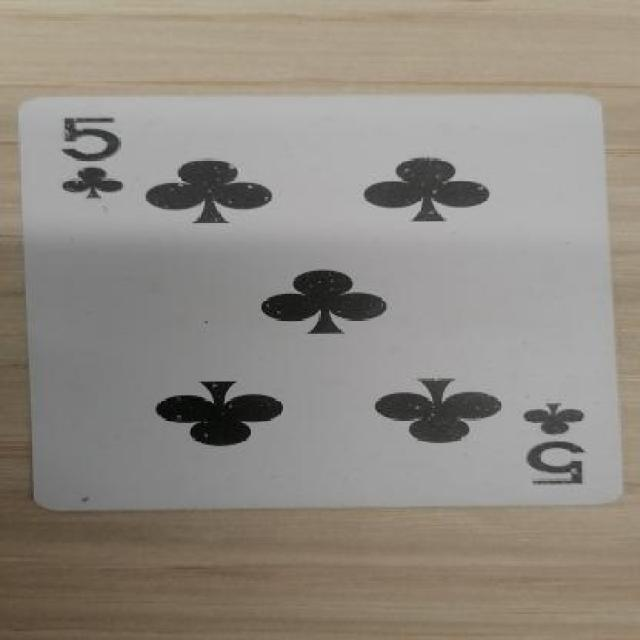5C: (24, 107, 158, 215), (498, 382, 610, 490)
